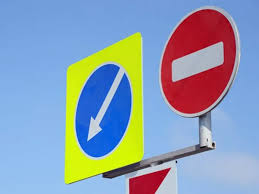No entry: (159, 5, 239, 119)
